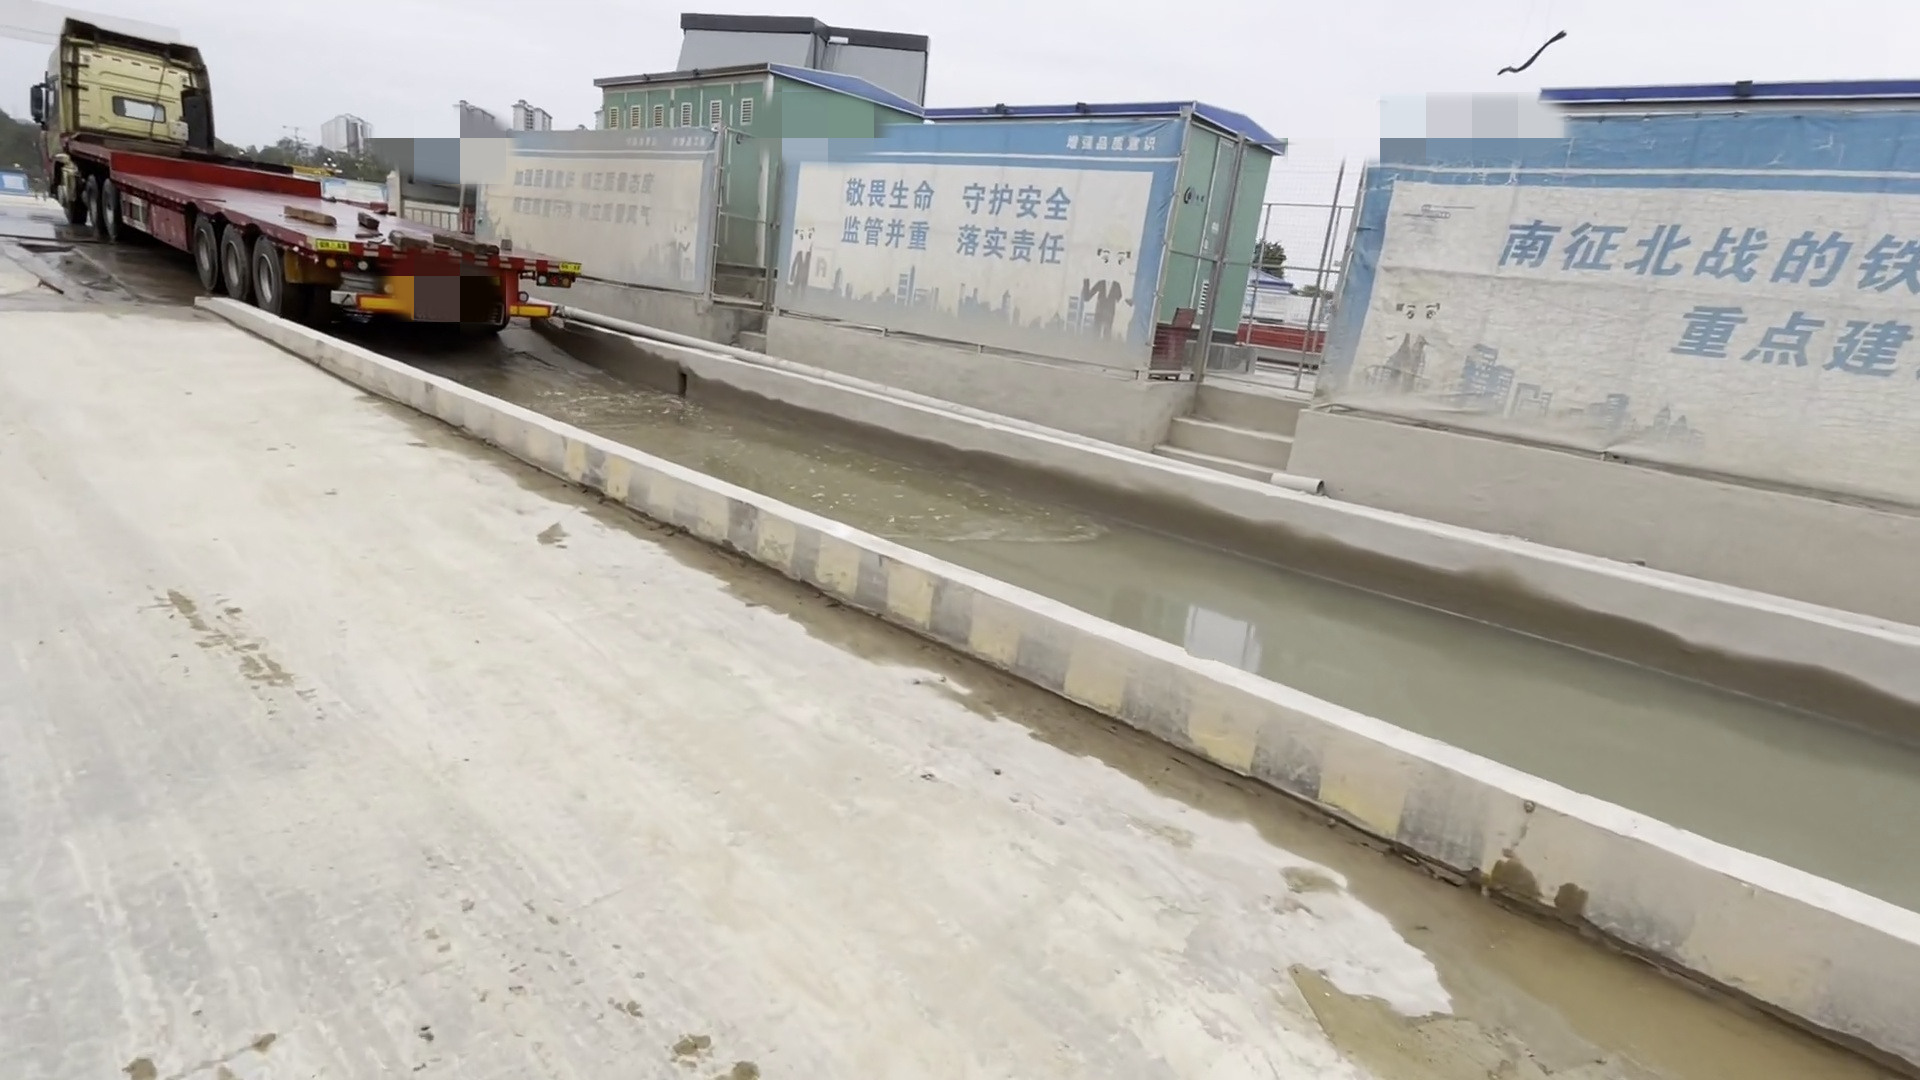slogan: (1469, 165, 1920, 440), (814, 127, 1139, 320), (487, 140, 713, 265)
